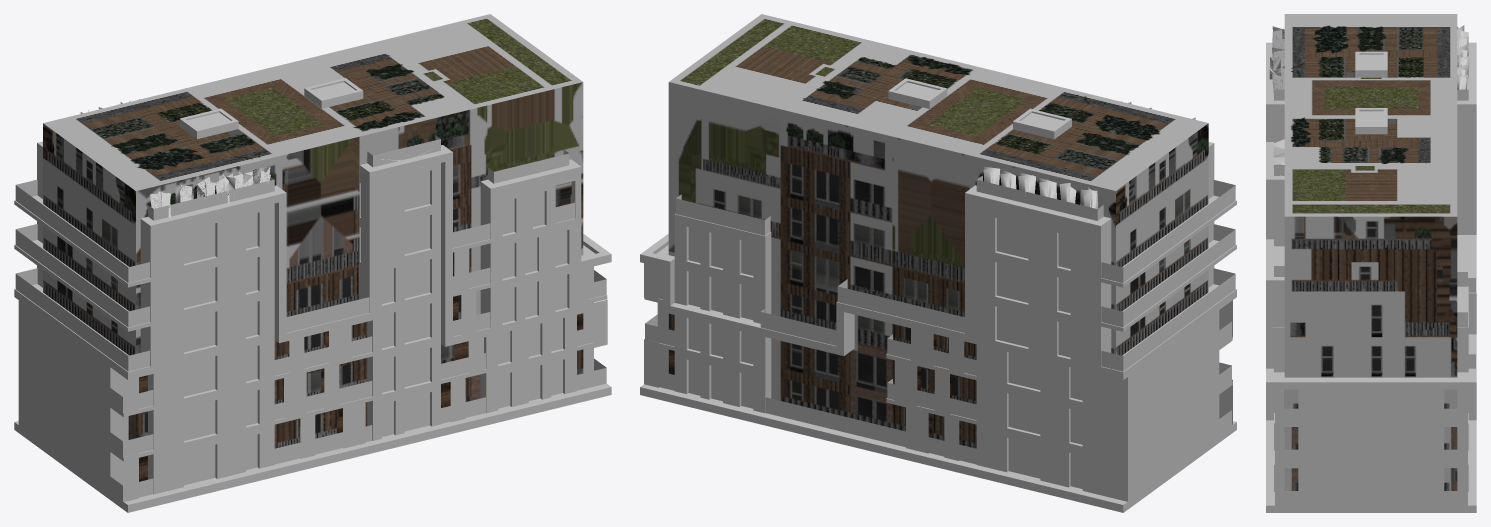
File: lg_astergea_flats_02.fbx
3 renders of one model, left to right at view 1: azimuth 30°, elevation 25°; view 2: azimuth 150°, elevation 25°; view 3: azimuth 270°, elevation 25°, orthographic. The views are drawn at different scales.
Visible parts, largest first — view 1: lg_astergea_flats_02_LOD0; view 2: lg_astergea_flats_02_LOD0; view 3: lg_astergea_flats_02_LOD0.
Part boxes in pixels (bbox=[...]): lg_astergea_flats_02_LOD0: bbox=[14, 14, 611, 512]; lg_astergea_flats_02_LOD0: bbox=[640, 14, 1236, 512]; lg_astergea_flats_02_LOD0: bbox=[1266, 14, 1476, 512].
Size of what is drawn, in the model's own units: 32 by 20.1 by 13.05.
